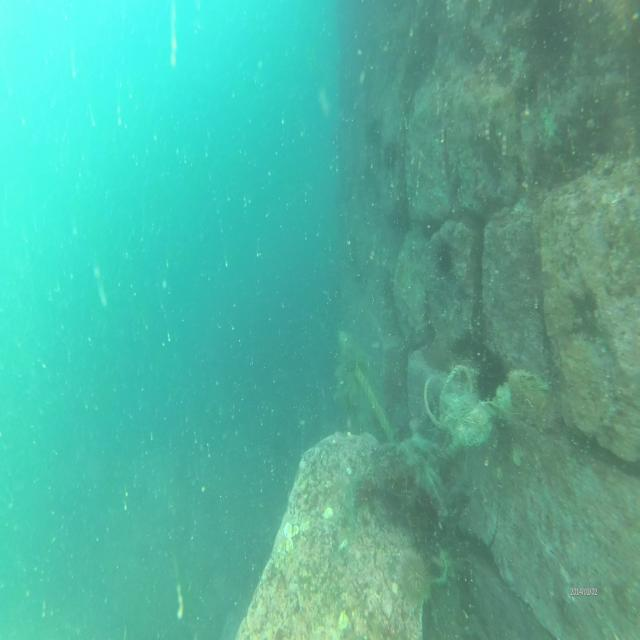echinus: (402, 548, 430, 604), (474, 353, 506, 400), (431, 242, 455, 276), (382, 142, 399, 170)
